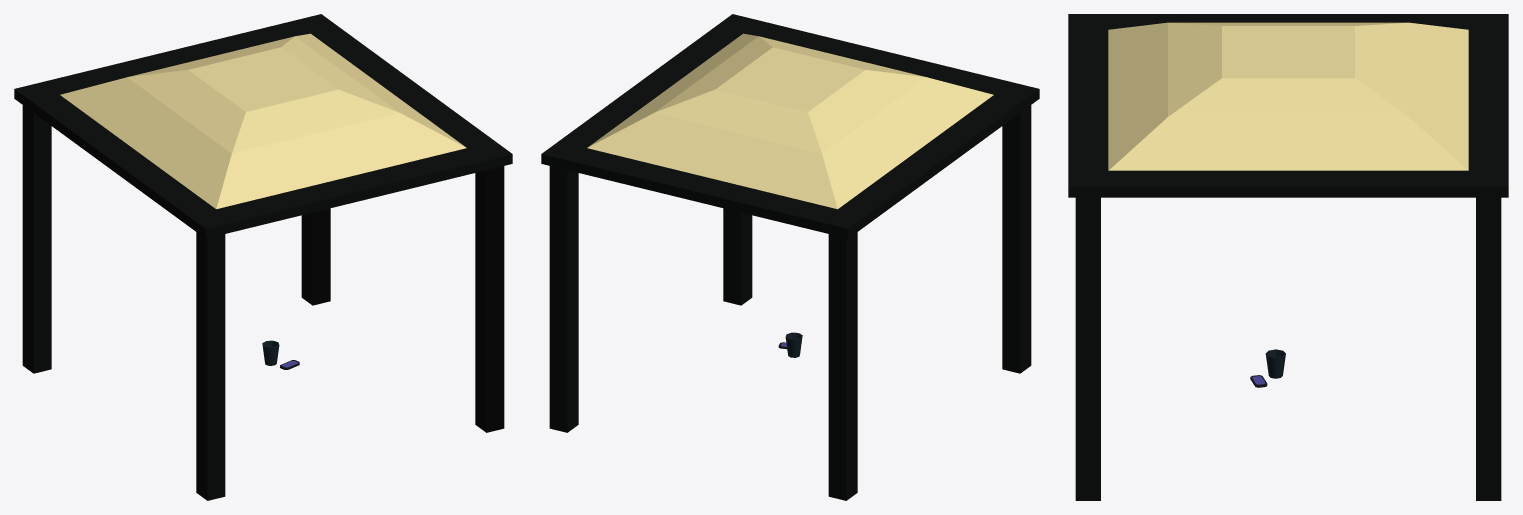
File: GAZEBOANDTABLEMISC.fbx
The picture shows the model from 3 angles, left to right: view 1: azimuth 30°, elevation 25°; view 2: azimuth 150°, elevation 25°; view 3: azimuth 270°, elevation 25°; orthographic projection. The views are drawn at different scales.
Visible parts, largest first — view 1: Gazebo; view 2: Gazebo; view 3: Gazebo, Cup.
Part boxes in pixels (box(x1,y1,x2,y2)): Gazebo: box(14, 14, 512, 500); Gazebo: box(541, 14, 1039, 500); Gazebo: box(1068, 14, 1508, 500); Cup: box(1265, 349, 1285, 378).
Bounding box in the file's own units: 535 × 528 × 577.
